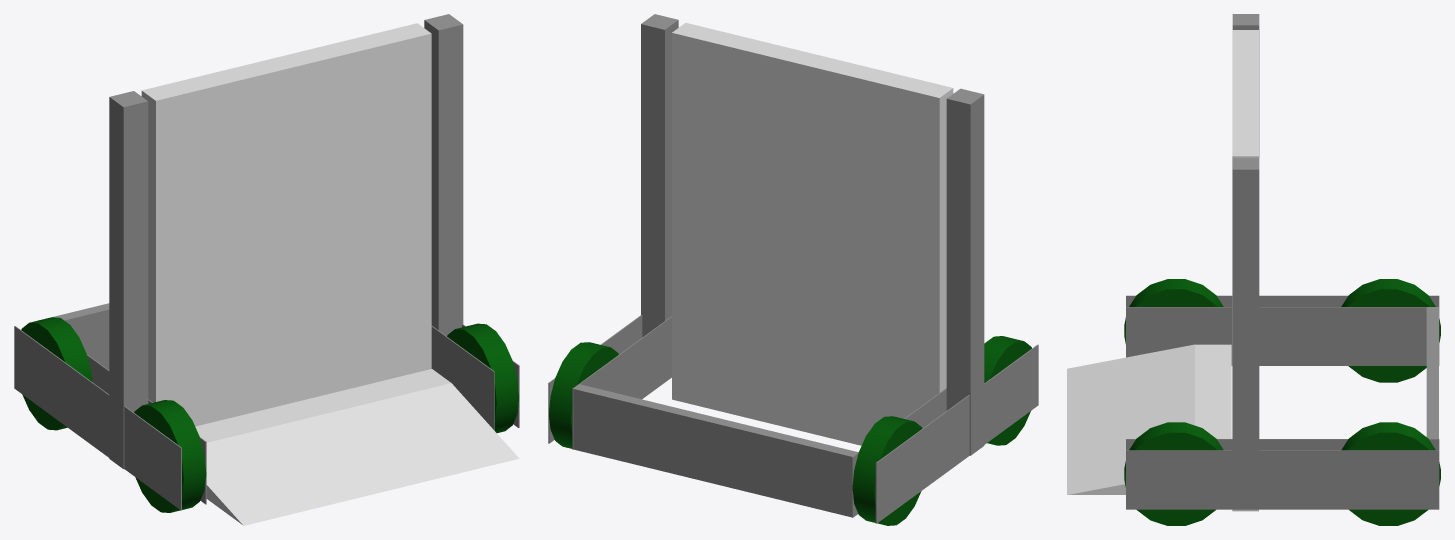
The model's file is scoopbot.FBX.
The picture shows the model from 3 angles, left to right: view 1: azimuth 30°, elevation 25°; view 2: azimuth 150°, elevation 25°; view 3: azimuth 270°, elevation 25°; orthographic projection. The views are drawn at different scales.
Parts seen in each view (by area): view 1: Box012, Box013, Box010, Box011, Box004, Cylinder003, Cylinder001, Box005, Cylinder004, Box002, Box001; view 2: Box012, Box002, Box010, Box011, Box004, Box005, Cylinder004, Cylinder002, Cylinder003, Box003, Box001; view 3: Box003, Box013, Box001, Box011, Box012, Cylinder001, Cylinder002, Cylinder004, Cylinder003, Box002, Box004, Box005 (+1 smaller).
Part boxes in pixels (x1,y1,x2,y2): Box012: (141, 23, 431, 426); Box013: (195, 369, 518, 525); Box010: (109, 91, 148, 469); Box011: (424, 14, 463, 336); Box004: (14, 326, 181, 510); Cylinder003: (134, 400, 206, 512); Cylinder001: (447, 323, 519, 432); Box005: (431, 326, 494, 430); Cylinder004: (21, 317, 92, 430); Box002: (52, 303, 109, 369); Box001: (39, 320, 206, 504); Box012: (672, 23, 953, 445); Box002: (573, 384, 858, 517); Box010: (946, 88, 984, 455); Box011: (641, 14, 678, 337); Box004: (875, 344, 1038, 523); Box005: (572, 316, 671, 449); Cylinder004: (852, 416, 922, 525); Cylinder002: (549, 342, 618, 448); Cylinder003: (984, 336, 1031, 445); Box003: (548, 315, 642, 443); Box001: (852, 388, 946, 517); Box003: (1126, 450, 1439, 509); Box013: (1067, 344, 1231, 494); Box001: (1126, 307, 1439, 365); Box011: (1232, 158, 1259, 509); Box012: (1232, 30, 1258, 511); Cylinder001: (1124, 422, 1223, 525); Cylinder002: (1341, 422, 1440, 525); Cylinder004: (1341, 279, 1440, 382); Cylinder003: (1124, 279, 1223, 343); Box002: (1426, 307, 1438, 450); Box004: (1126, 295, 1439, 306); Box005: (1126, 439, 1439, 450).
Size of the model in its own units: 0.3584 by 0.3834 by 0.3636.
